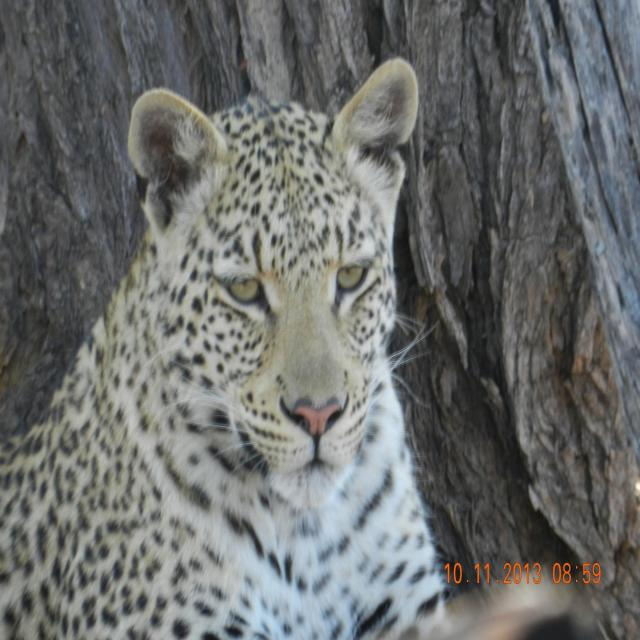Leopard: (0, 60, 550, 640)
